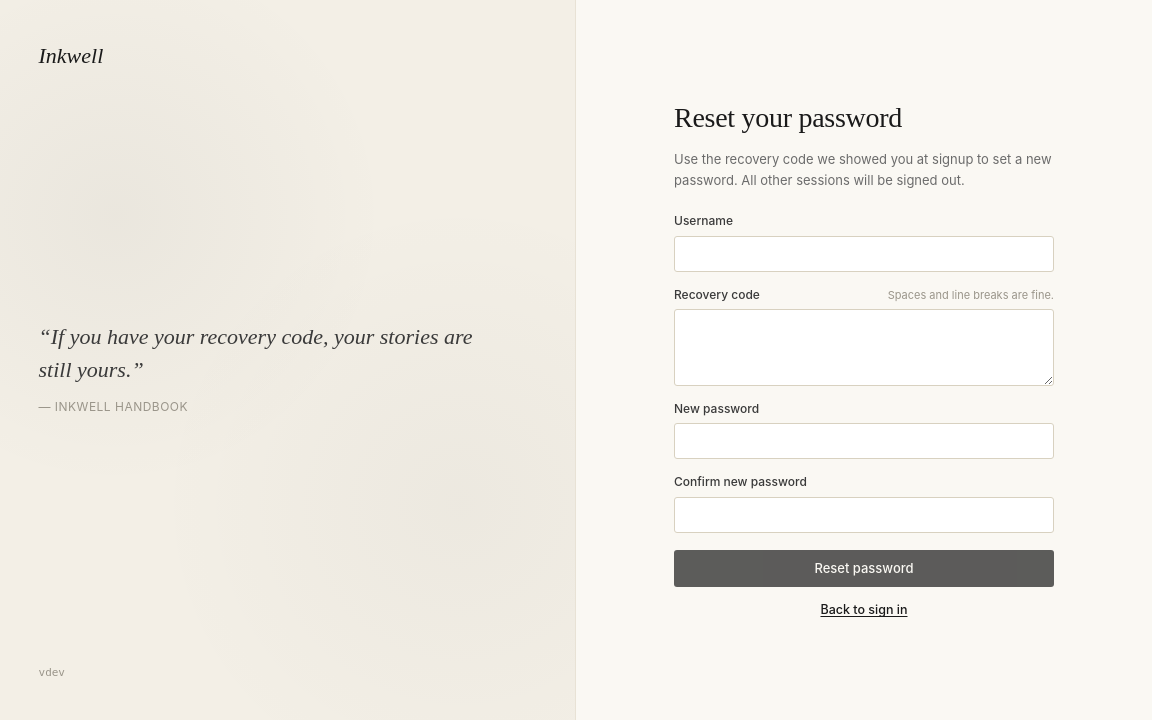
Test: <ResetPasswordForm> › shows "Passwords do not match" when confirm differs from newPassword
The width and height of the screenshot is (1152, 720).
In the field labelled "Username": (864, 254) [674,236,1054,272], type "alice"
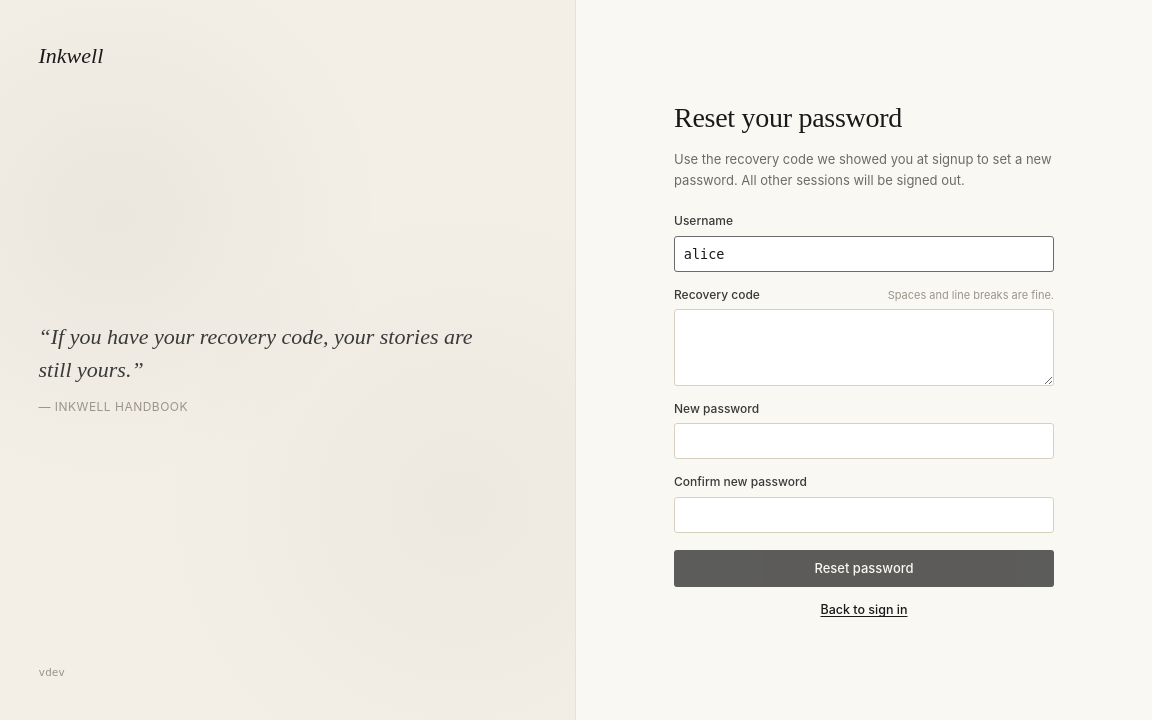
In the text box labelled "Recovery code Spaces and line breaks are fine.": (864, 347) [674,309,1054,386], type "horse-battery-staple"
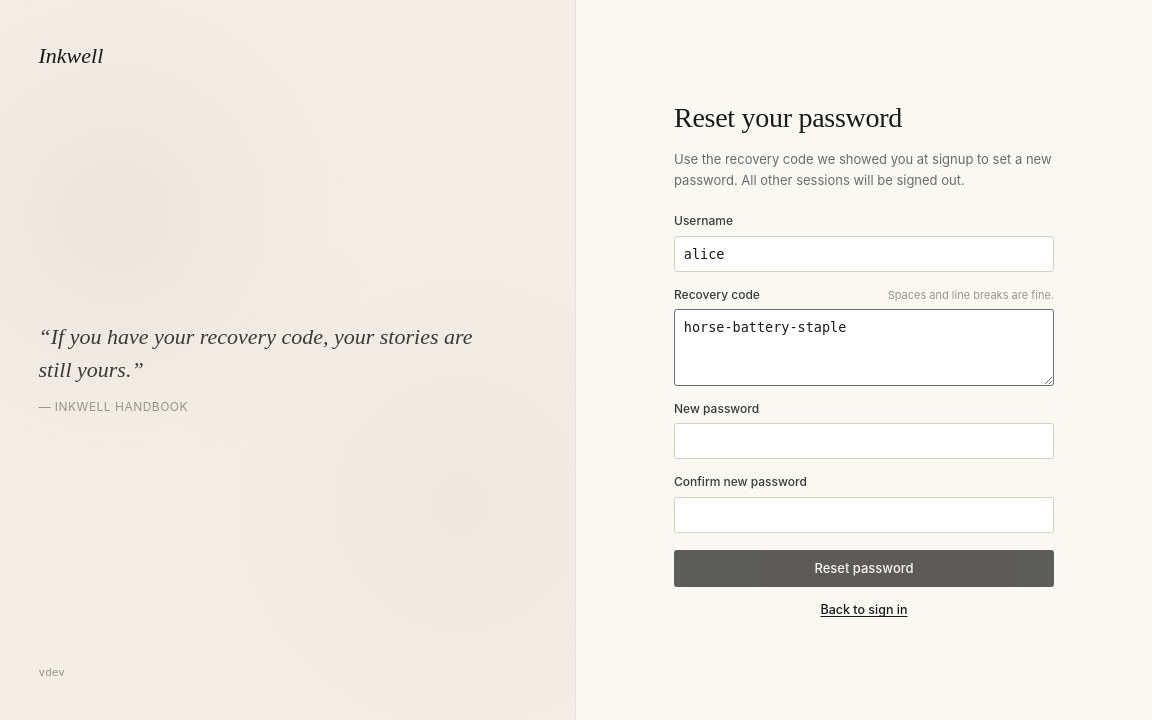
In the password field labelled "New password": (864, 441) [674,423,1054,459], type "hunter2hunter2"
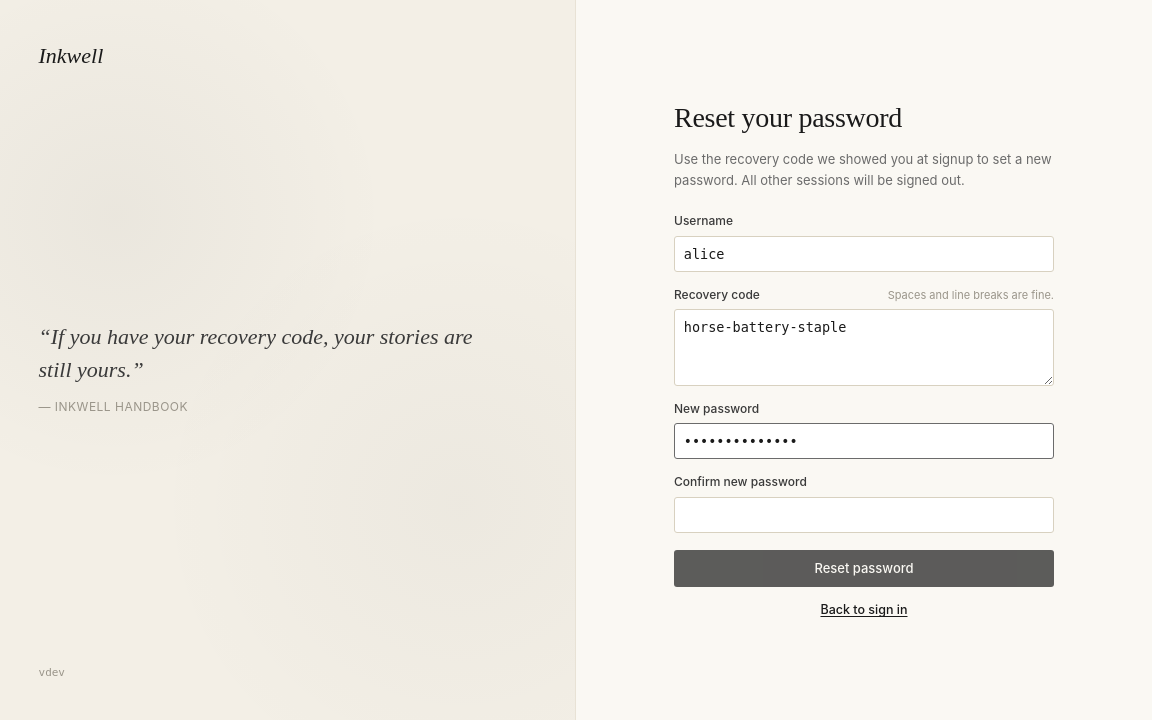
In the password field labelled "Confirm new password": (864, 515) [674,496,1054,533], type "different"
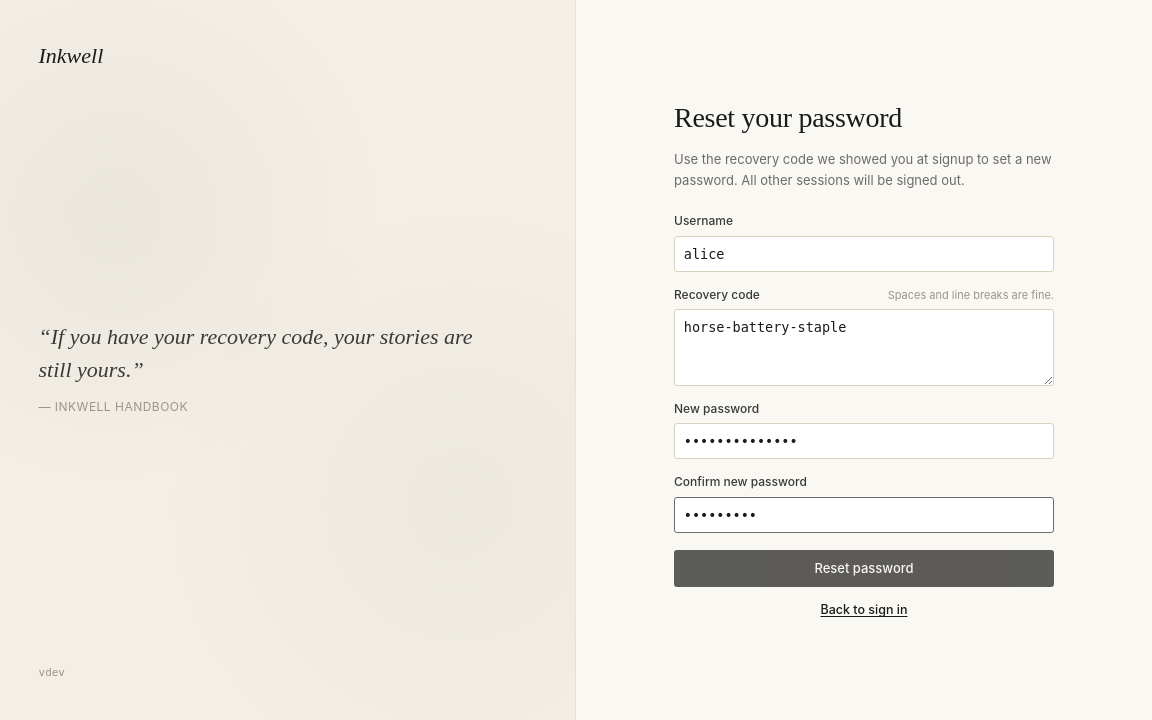
Press Tab
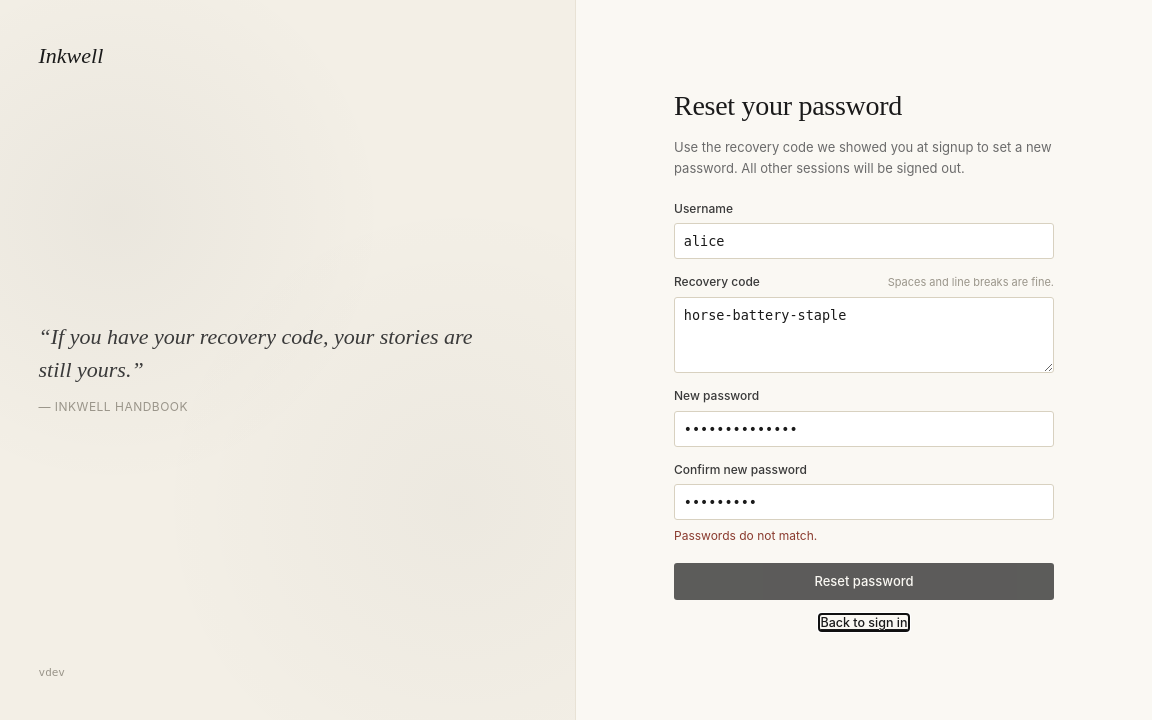
Check: the button "Reset password" is disabled, box [674,563,1054,600]
Check: the text "Passwords do not match." is shown, box [674,528,817,543]
